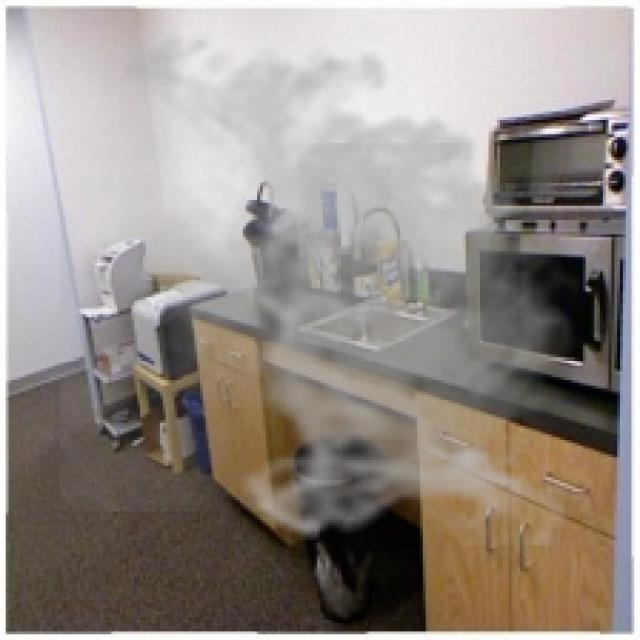smoke: (60, 17, 594, 546)
